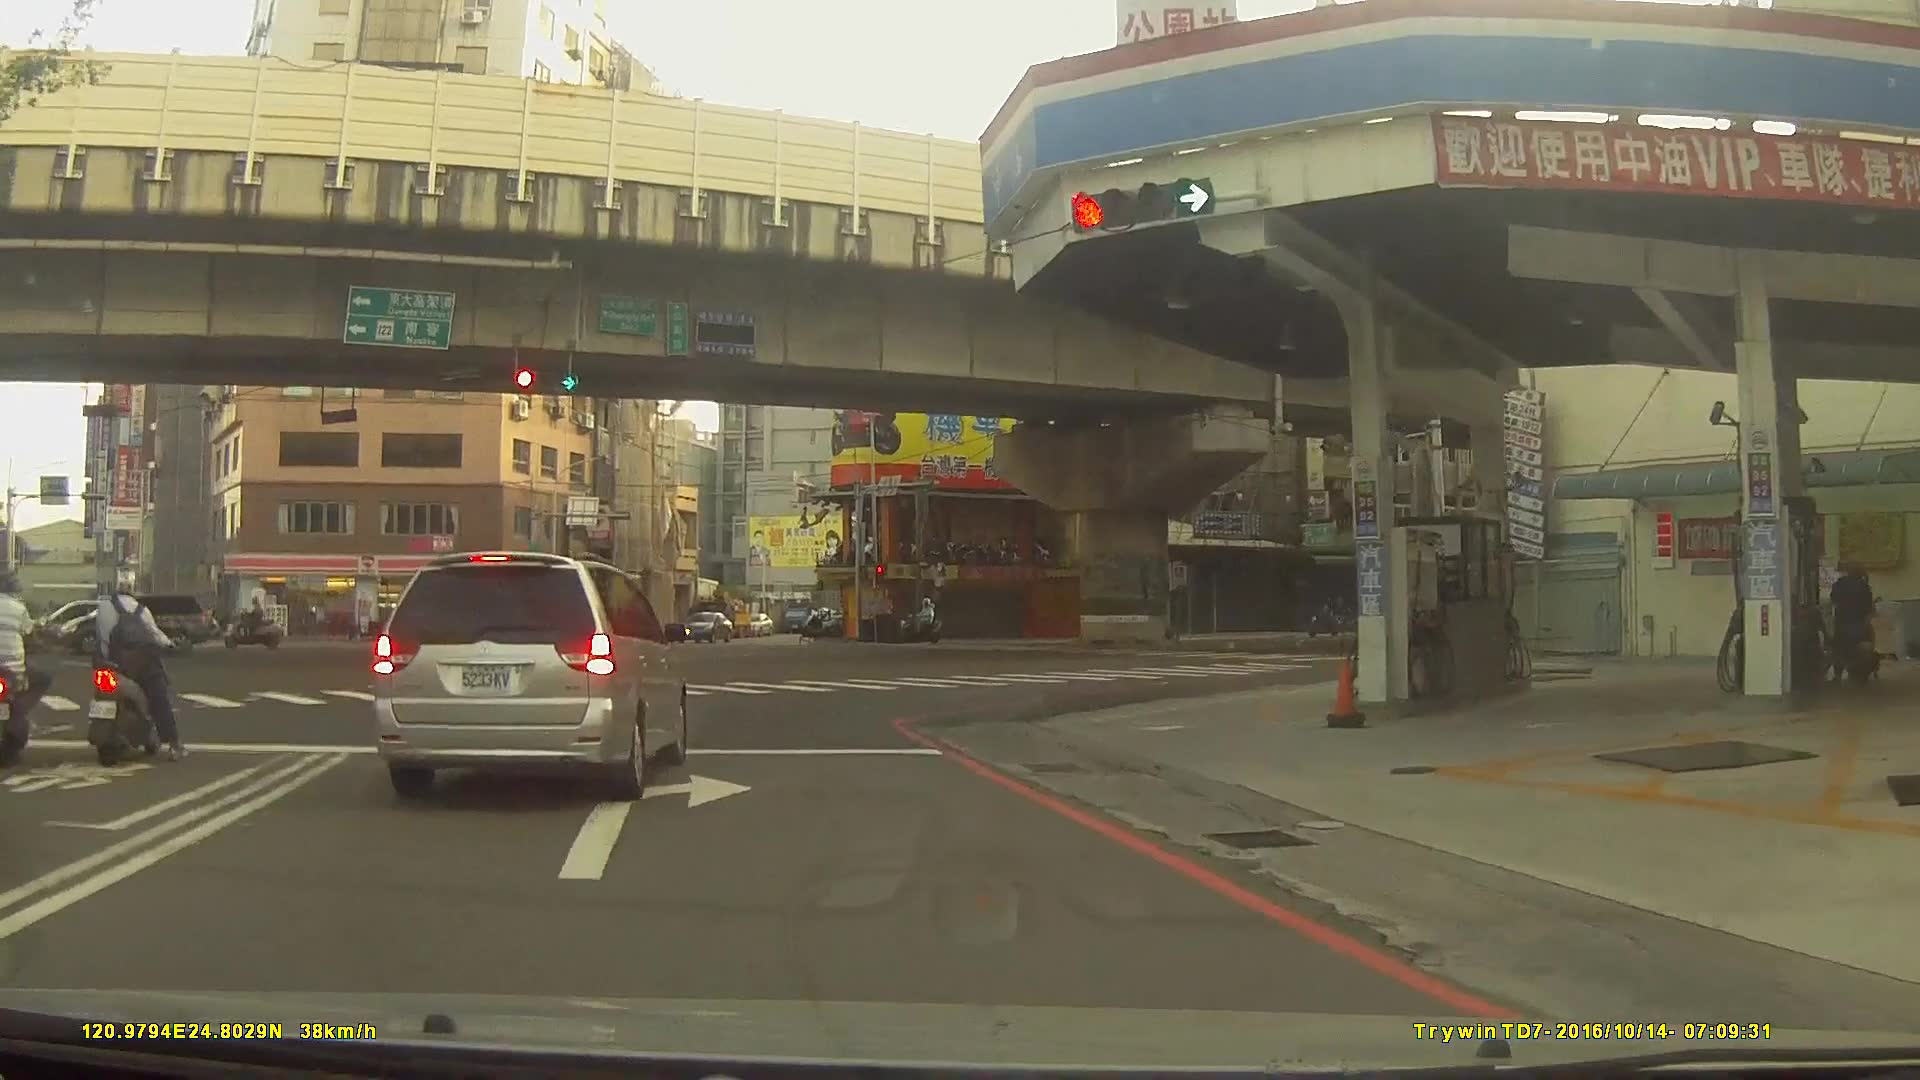rider: (89, 572, 189, 762), (1, 575, 46, 760), (222, 595, 285, 651), (901, 596, 944, 642)
vehicle: (368, 549, 689, 798), (53, 592, 207, 653), (679, 611, 734, 642), (543, 606, 605, 633)
